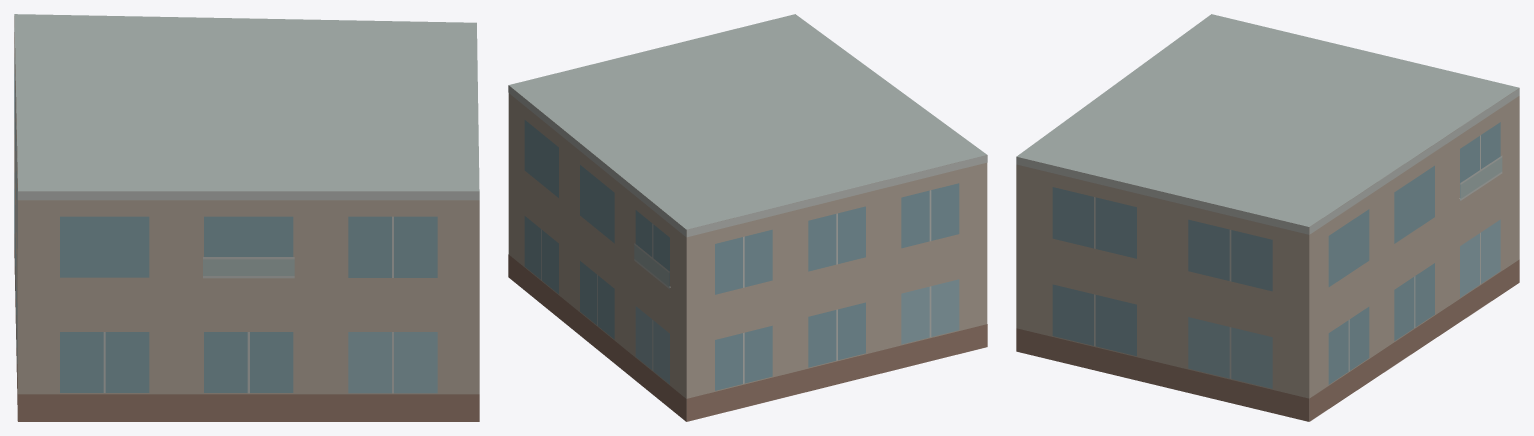
The model's file is survey-upis-32601724.glb.
The picture shows the model from 3 angles, left to right: view 1: azimuth 30°, elevation 25°; view 2: azimuth 150°, elevation 25°; view 3: azimuth 270°, elevation 25°; orthographic projection. The views are drawn at different scales.
Parts seen in each view (by area): view 1: survey-upis-32601724.tmp; view 2: survey-upis-32601724.tmp; view 3: survey-upis-32601724.tmp.
Part boxes in pixels (x1,y1,x2,y2): survey-upis-32601724.tmp: (14, 14, 479, 421); survey-upis-32601724.tmp: (508, 14, 987, 421); survey-upis-32601724.tmp: (1016, 14, 1519, 421).
Size of the model in its own units: 14.32 by 6.1 by 14.29.
